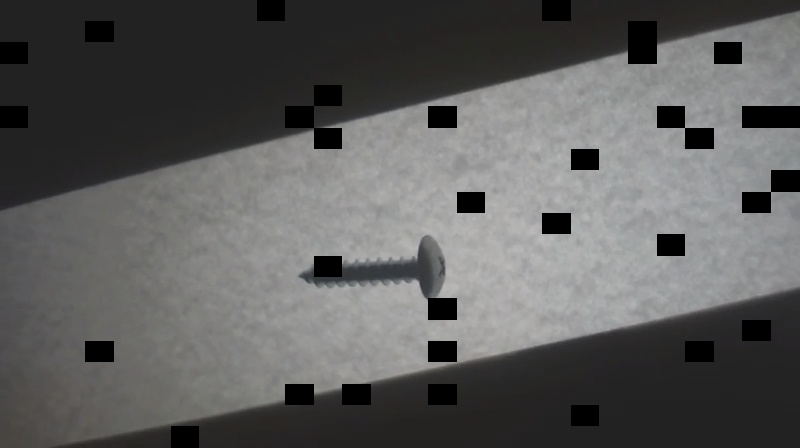S003: (293, 233, 450, 304)
